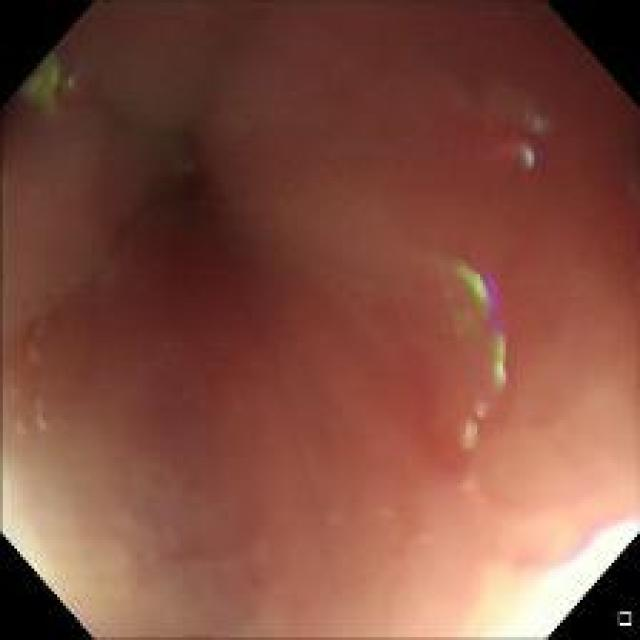color misalignment: (436, 242, 512, 454), (16, 45, 69, 119), (505, 128, 549, 185), (174, 149, 200, 184)
contrast: (151, 139, 216, 231)
saturation: (499, 519, 636, 634)
